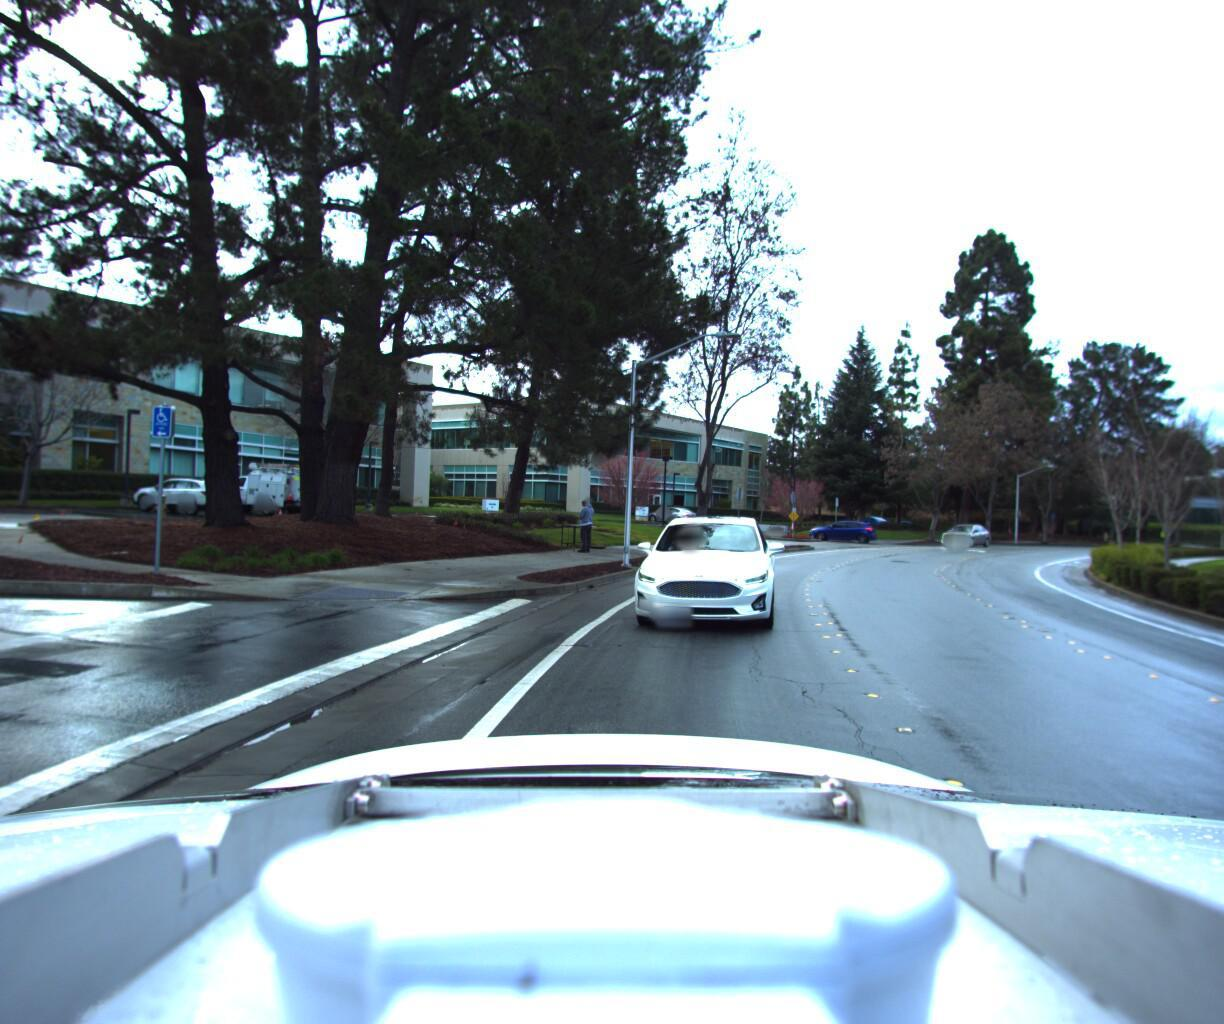car: (616, 515, 789, 652), (800, 520, 878, 546), (937, 522, 993, 549)
